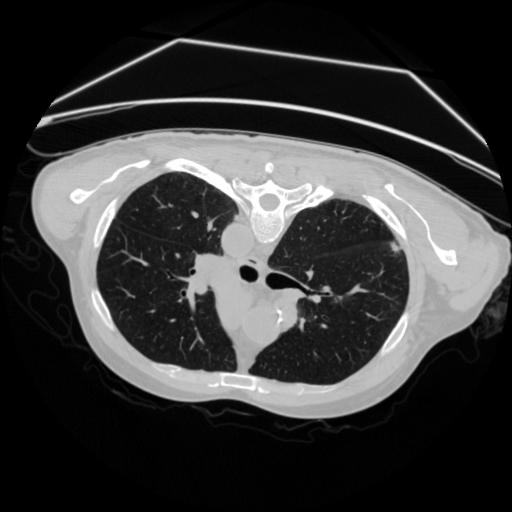nodule: (388, 240, 404, 256)
